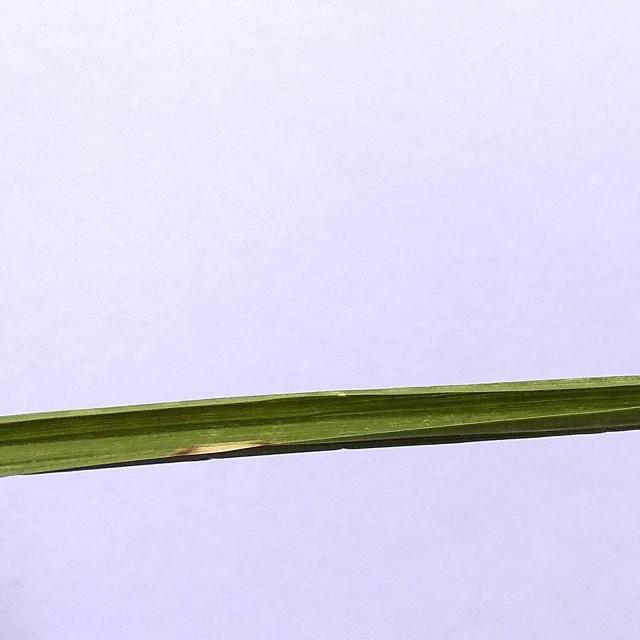Leaf blast: (0, 356, 640, 504)
